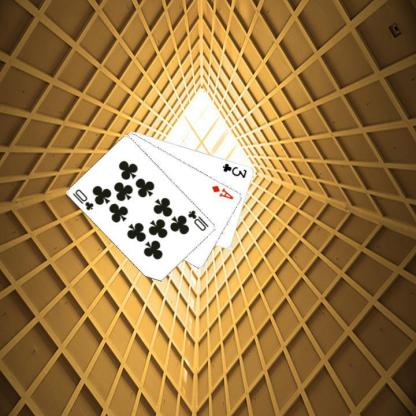10C: (70, 186, 96, 212), (186, 208, 210, 232)
3C: (220, 161, 249, 179)
AD: (209, 182, 235, 200)
